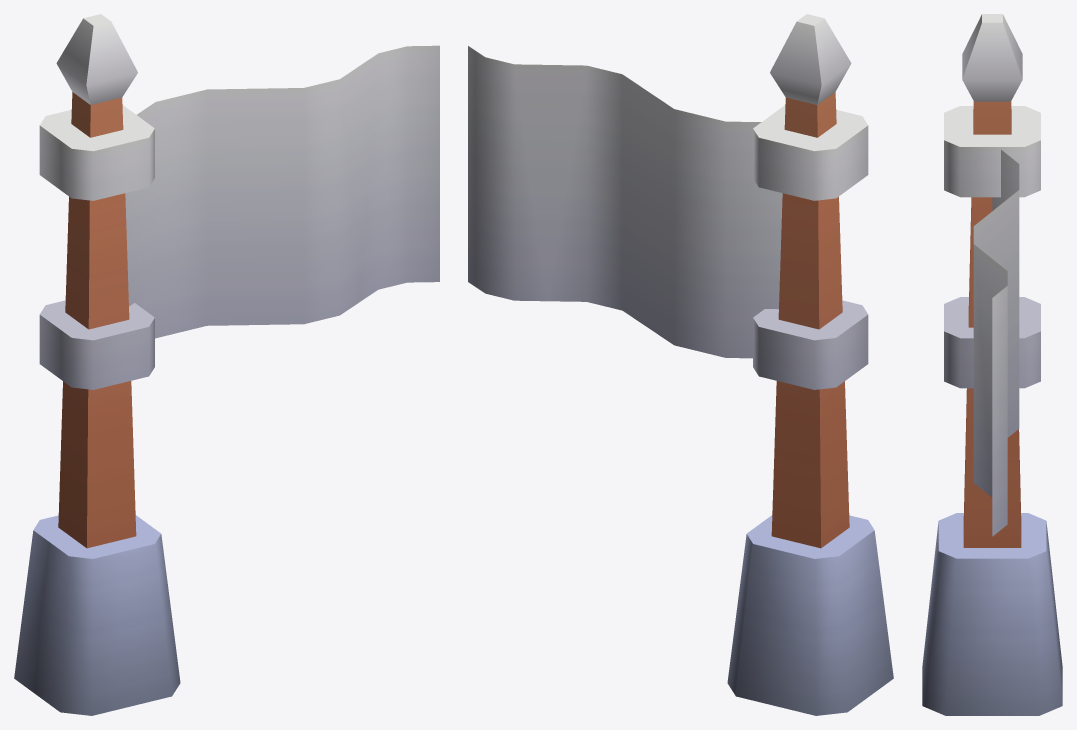
The model's file is flag.glb.
3 renders of one model, left to right at view 1: azimuth 30°, elevation 25°; view 2: azimuth 150°, elevation 25°; view 3: azimuth 270°, elevation 25°, orthographic.
Visible parts, largest first — view 1: flag; view 2: flag; view 3: flag.
Part boxes in pixels (x1,y1,x2,y2): flag: (14,14,439,715); flag: (468,14,893,715); flag: (922,14,1062,715).
Size of the model in its own units: 1.34 by 2.1 by 0.3988.
Materials: 1 (1 with a texture image).
